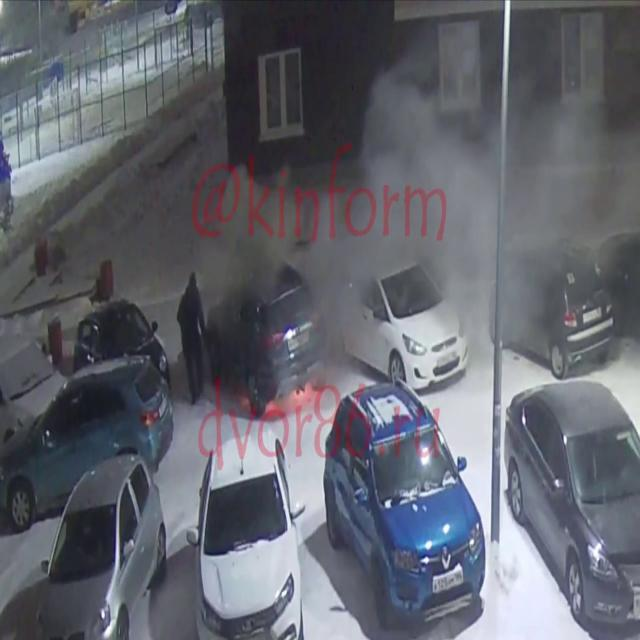Smoke: (309, 9, 640, 362)
